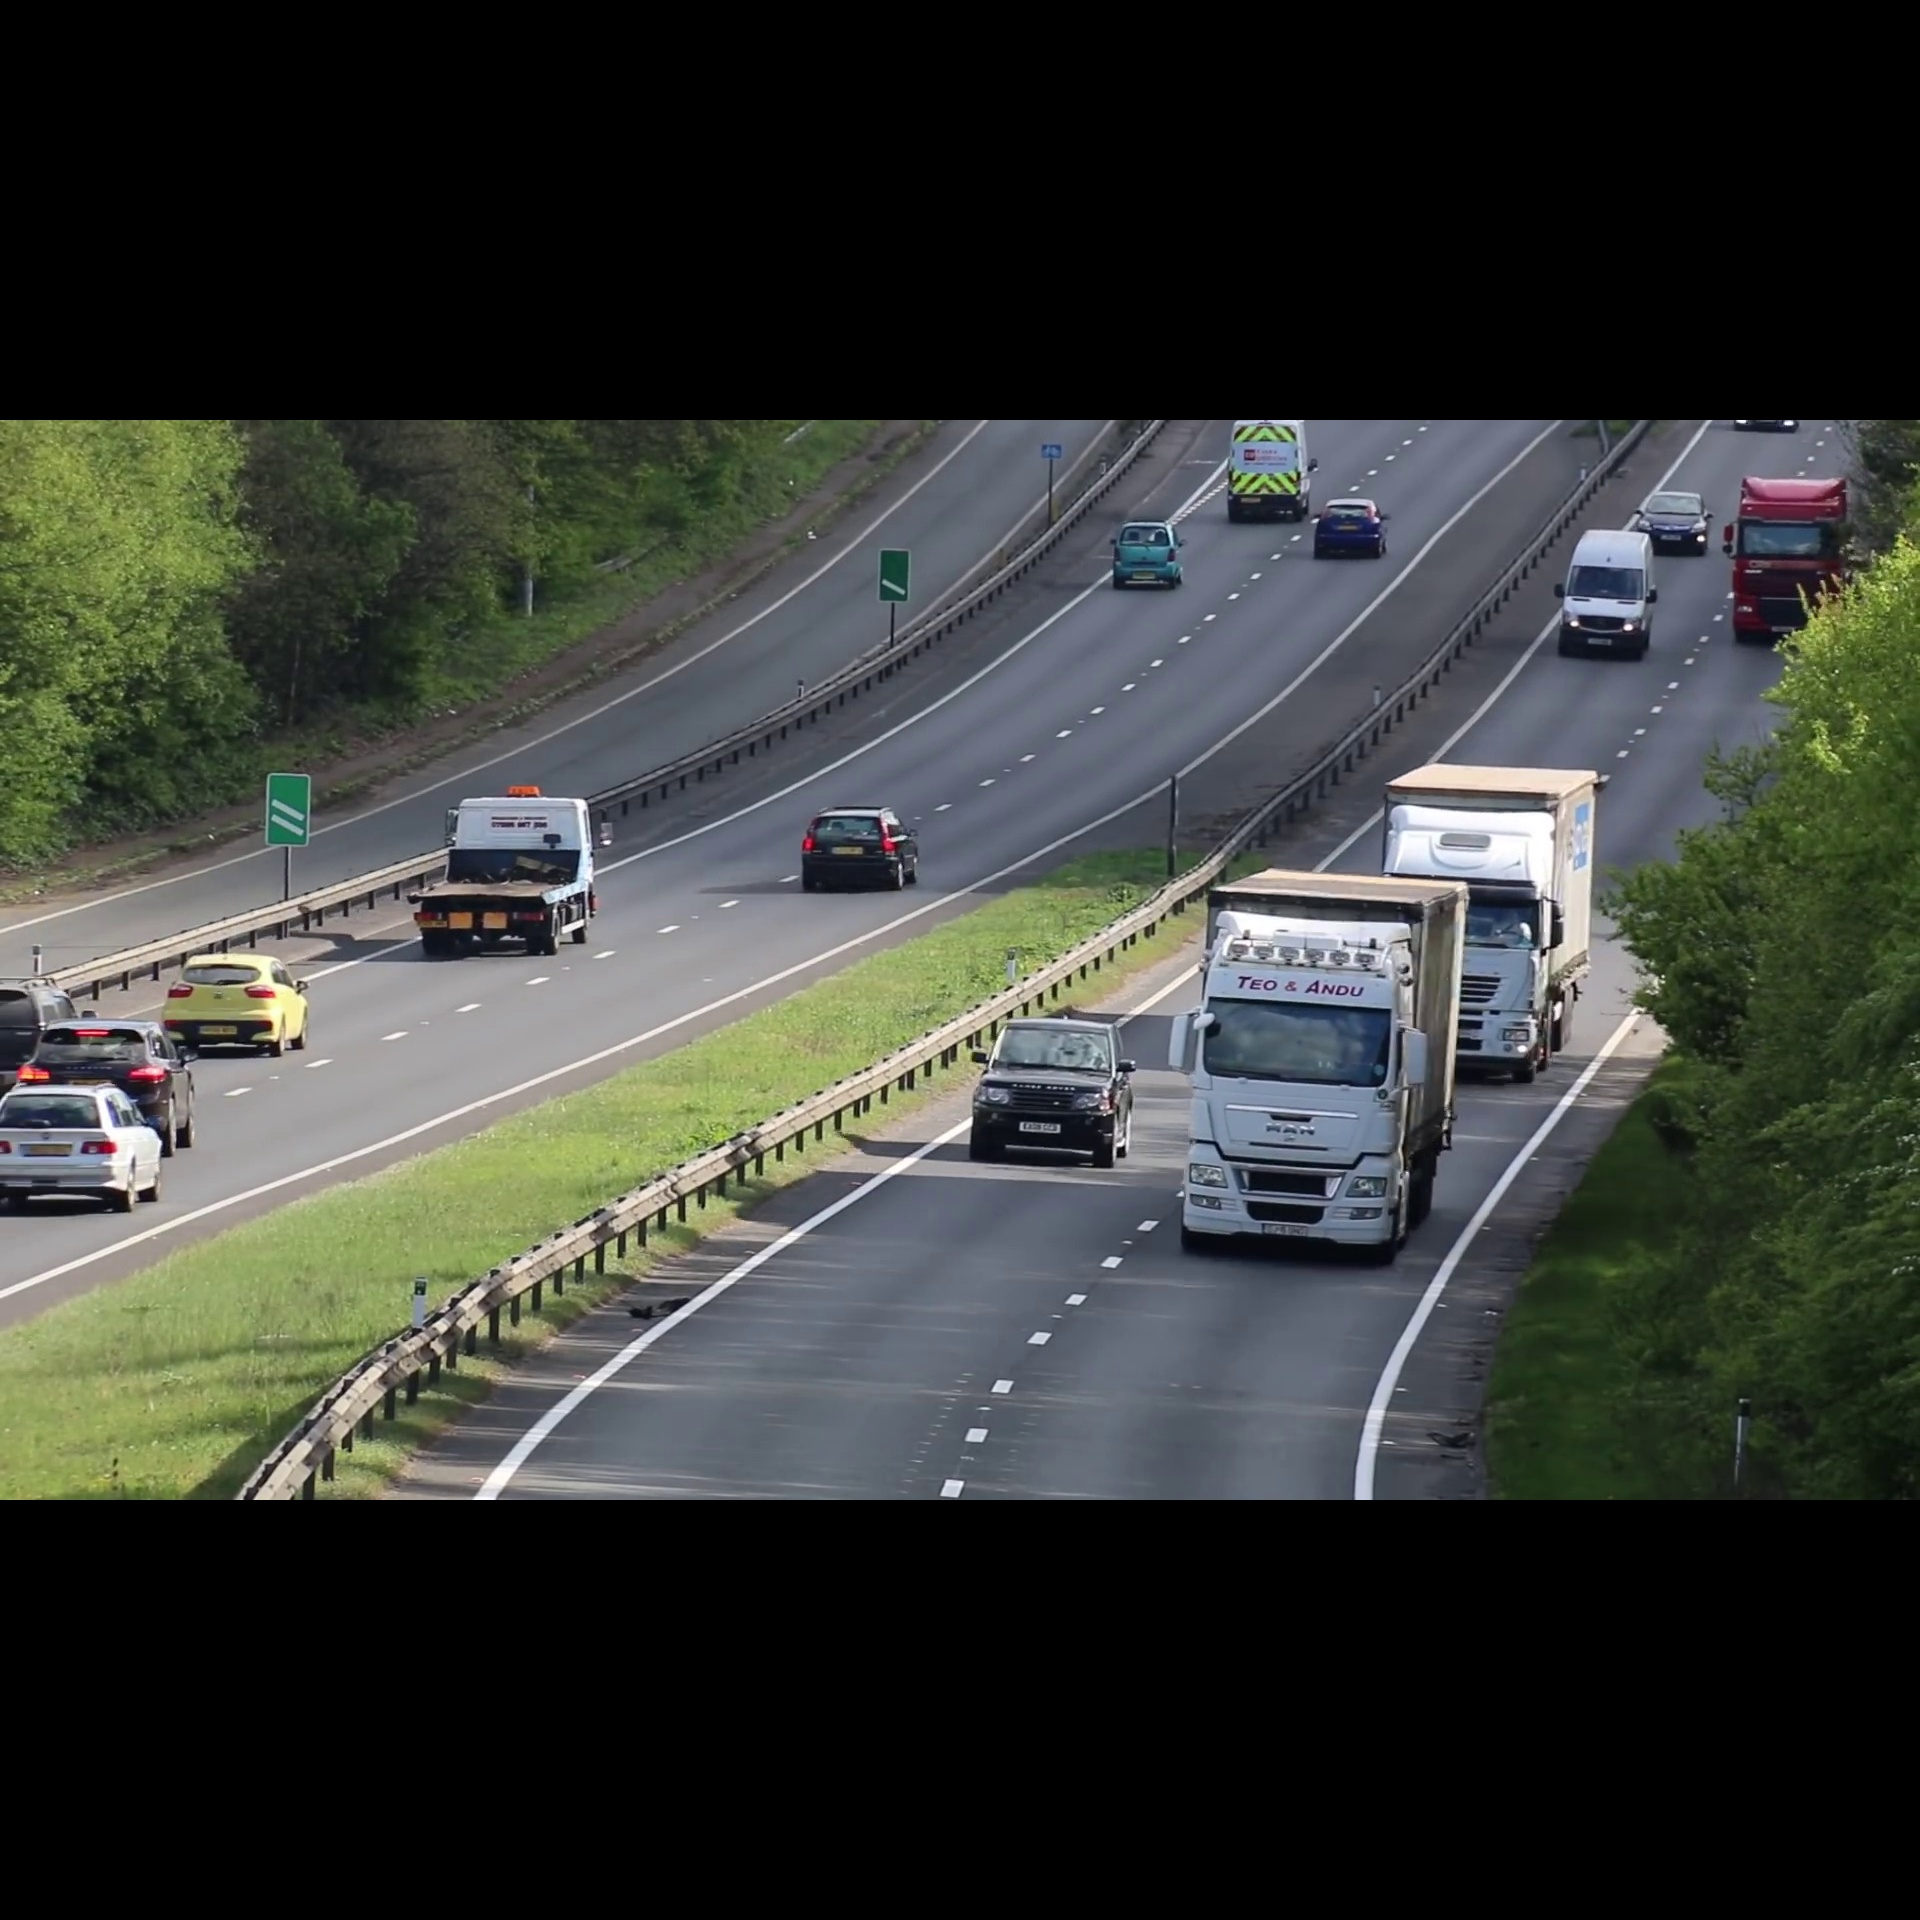vehicle: (1171, 876, 1468, 1255), (1380, 760, 1614, 1065), (403, 784, 612, 964), (962, 1009, 1132, 1171), (1725, 473, 1857, 659), (2, 1085, 165, 1215), (158, 946, 316, 1055), (19, 1020, 193, 1115), (1558, 526, 1662, 659), (793, 804, 927, 904), (1224, 420, 1319, 531), (1104, 513, 1192, 594), (1312, 489, 1394, 566), (1637, 489, 1714, 556)
